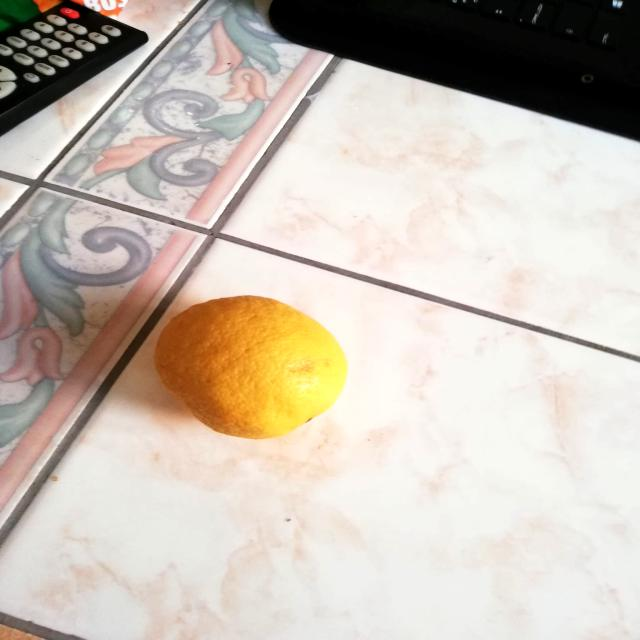lemon: (146, 286, 357, 444)
